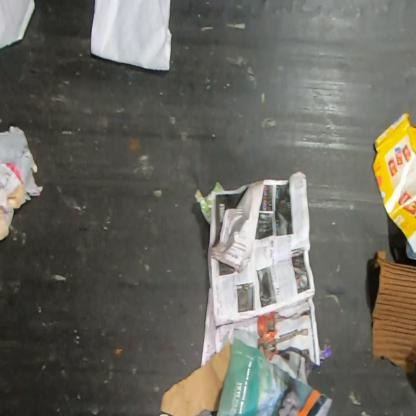cardboard: (372, 111, 415, 255), (157, 338, 231, 415), (371, 249, 415, 377)
soft_plastic: (0, 126, 43, 204)
